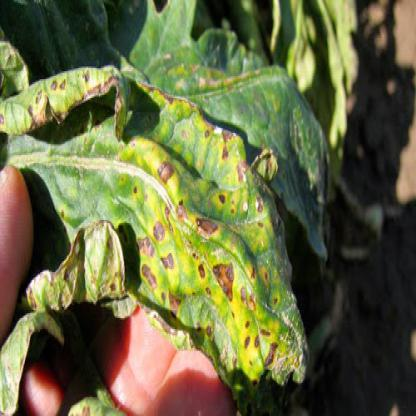Tomato leaf bacterial spot: (7, 13, 329, 381)
